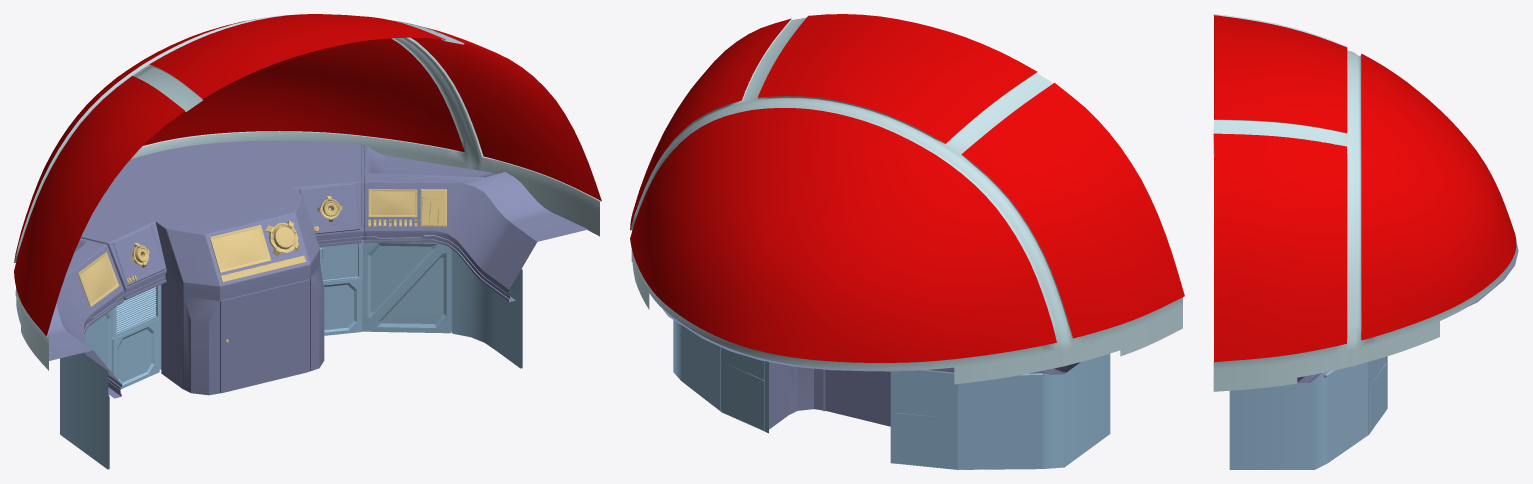
File: Cockpit 4.7.fbx
3 views of the same model, side by side, from view 1: azimuth 30°, elevation 25°; view 2: azimuth 150°, elevation 25°; view 3: azimuth 270°, elevation 25° (orthographic). The views are drawn at different scales.
Visible parts, largest first — view 1: polySurface311; view 2: polySurface311; view 3: polySurface311.
Part boxes in pixels (box(x1,y1,x2,y2)): polySurface311: box(14, 14, 601, 469); polySurface311: box(630, 14, 1184, 469); polySurface311: box(1213, 14, 1518, 469).
Bounding box in the file's own units: 2.23 × 1.45 × 1.2.
